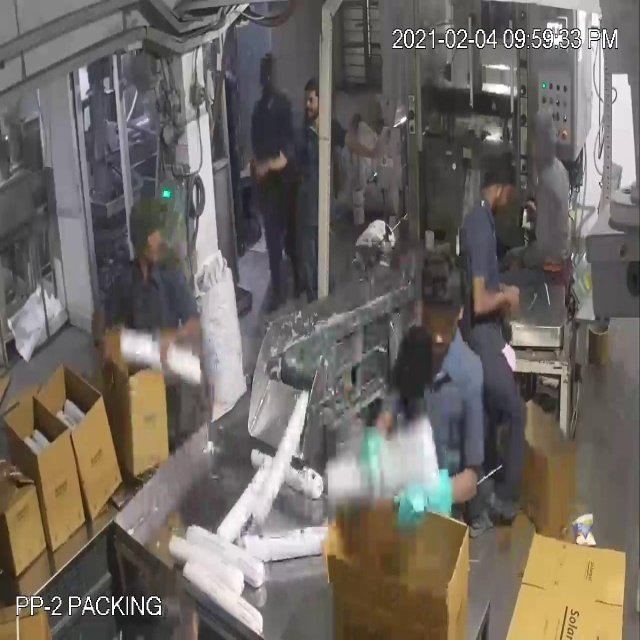Guantes: (392, 459, 484, 538)
Sin_guantes: (464, 249, 529, 320), (136, 307, 207, 364), (336, 132, 392, 173), (255, 146, 307, 190)
